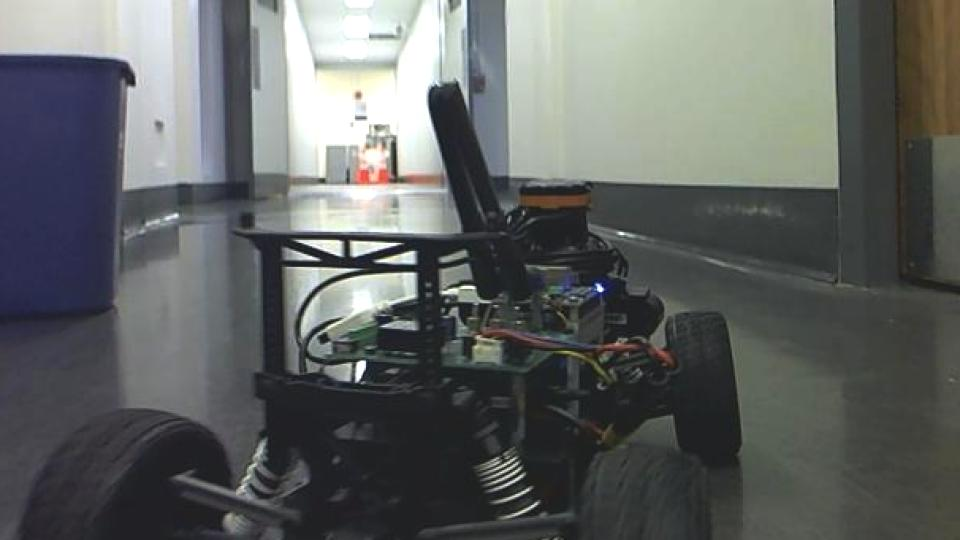car: (11, 78, 746, 540)
